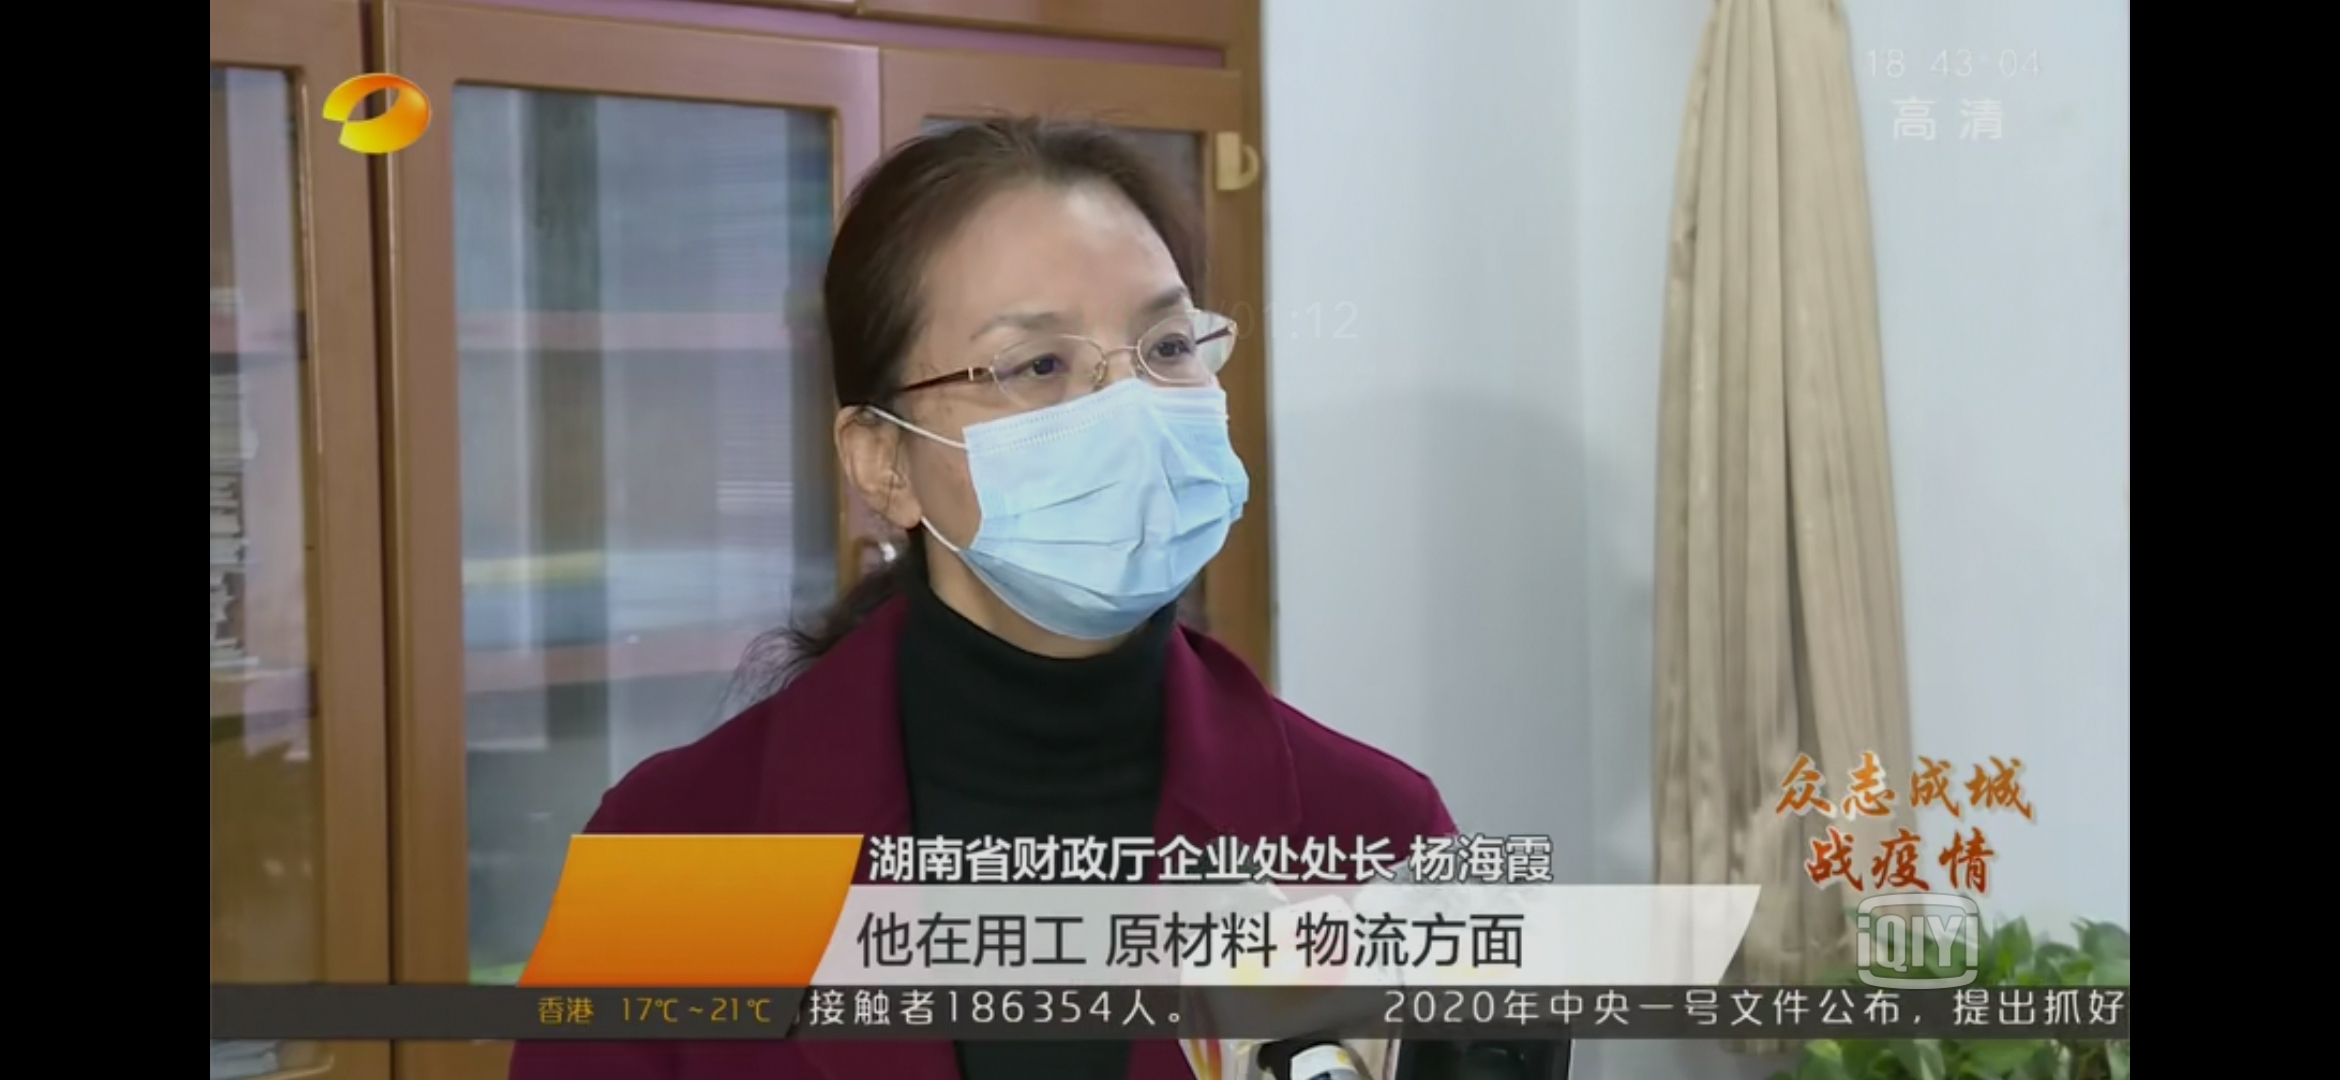correctlyWear: (825, 274, 1258, 638)
